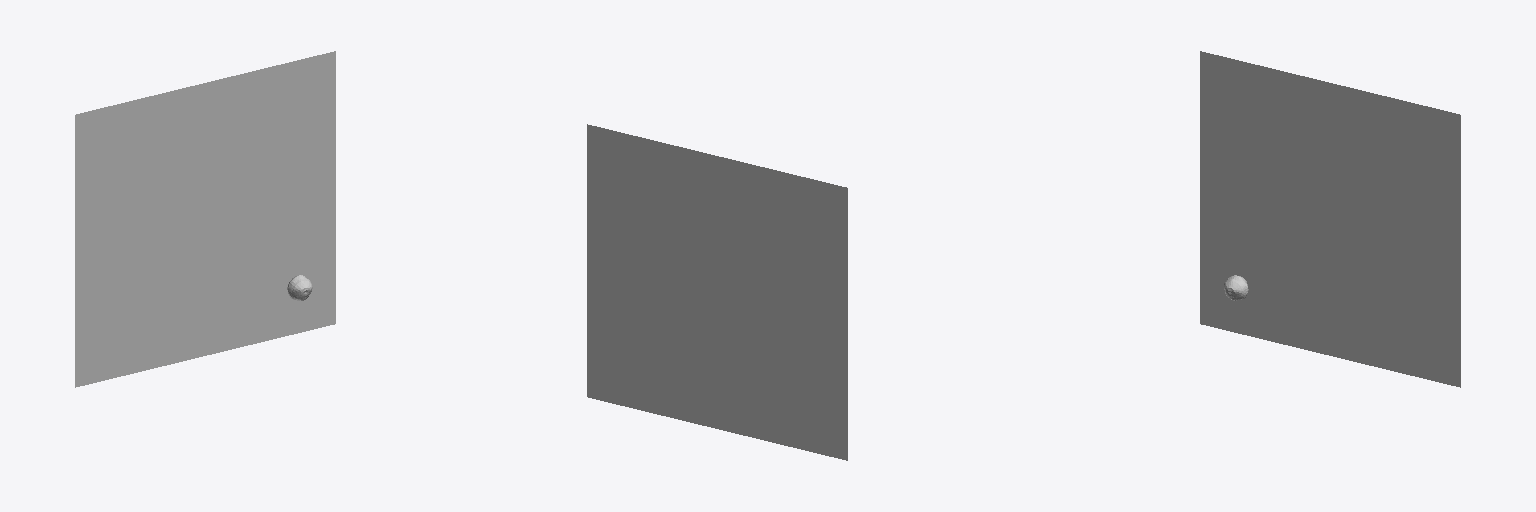
Rendered from didy3.obj.
3 renders of one model, left to right at view 1: azimuth 30°, elevation 25°; view 2: azimuth 150°, elevation 25°; view 3: azimuth 330°, elevation 25°, orthographic.
Visible parts, largest first — view 1: Plane; view 2: Plane; view 3: Plane.
Boxes of the visible parts, x1,y1,x2,y2 form: Plane: [75, 51, 335, 387]; Plane: [587, 124, 847, 460]; Plane: [1200, 51, 1460, 387].
Bounding box in the file's own units: 9.49 × 9.49 × 6.31.